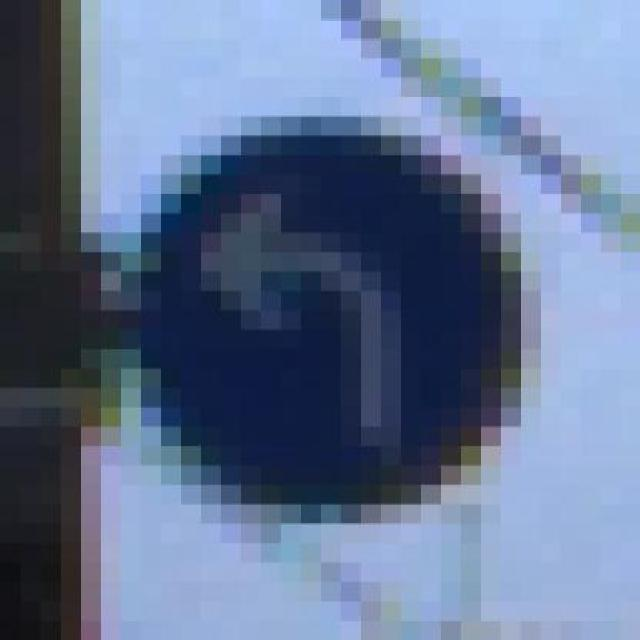Turn left ahead: (120, 97, 560, 543)
